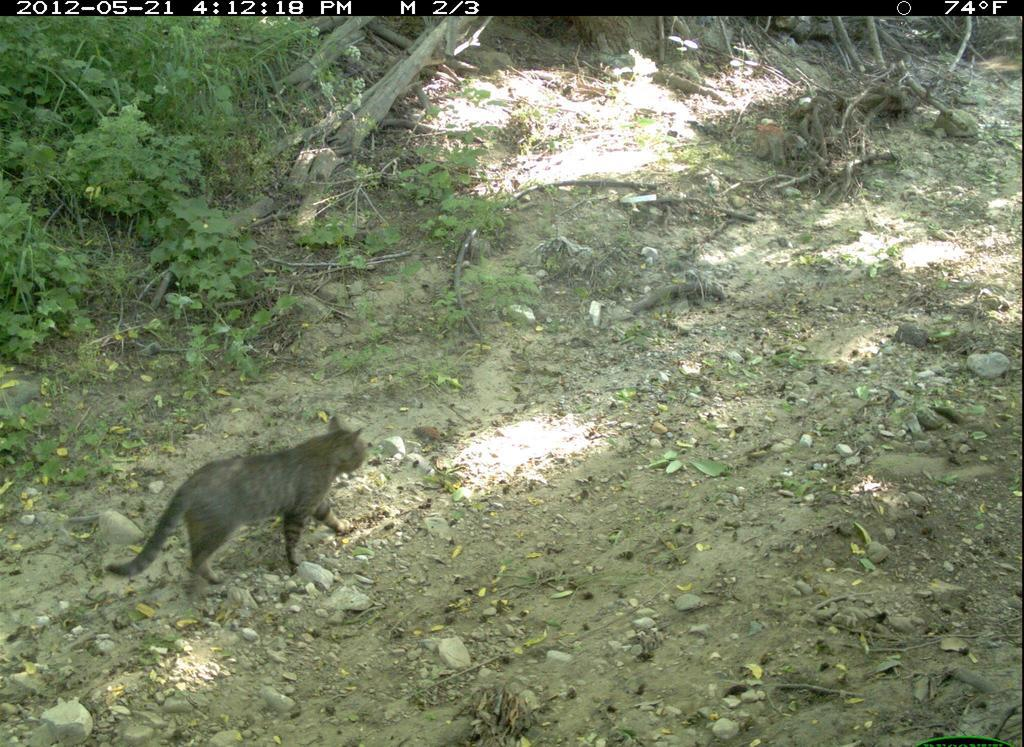cat: (88, 415, 374, 606)
